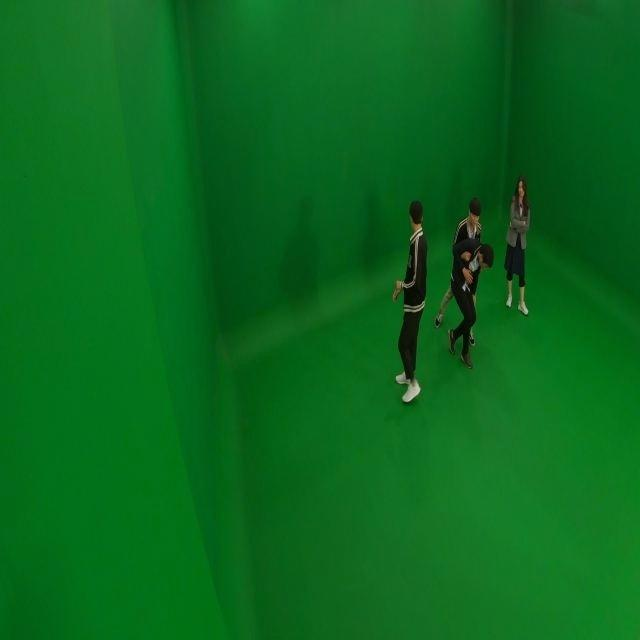fight: (437, 197, 490, 367)
non-fight: (391, 198, 432, 403), (500, 175, 532, 314)
